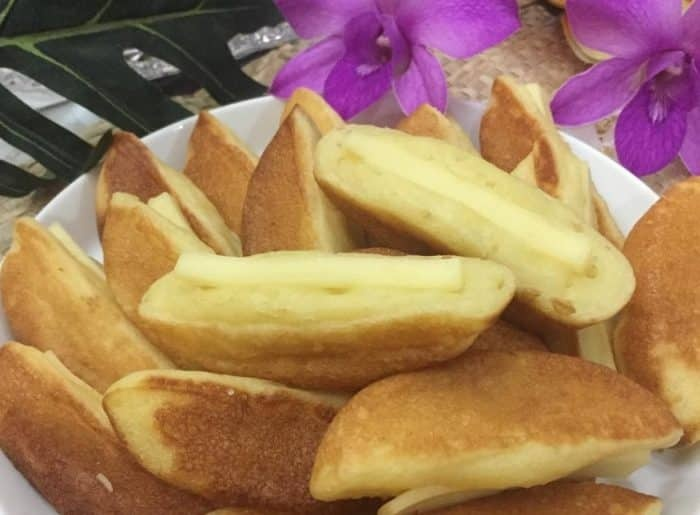pukis: (225, 355, 690, 498)
